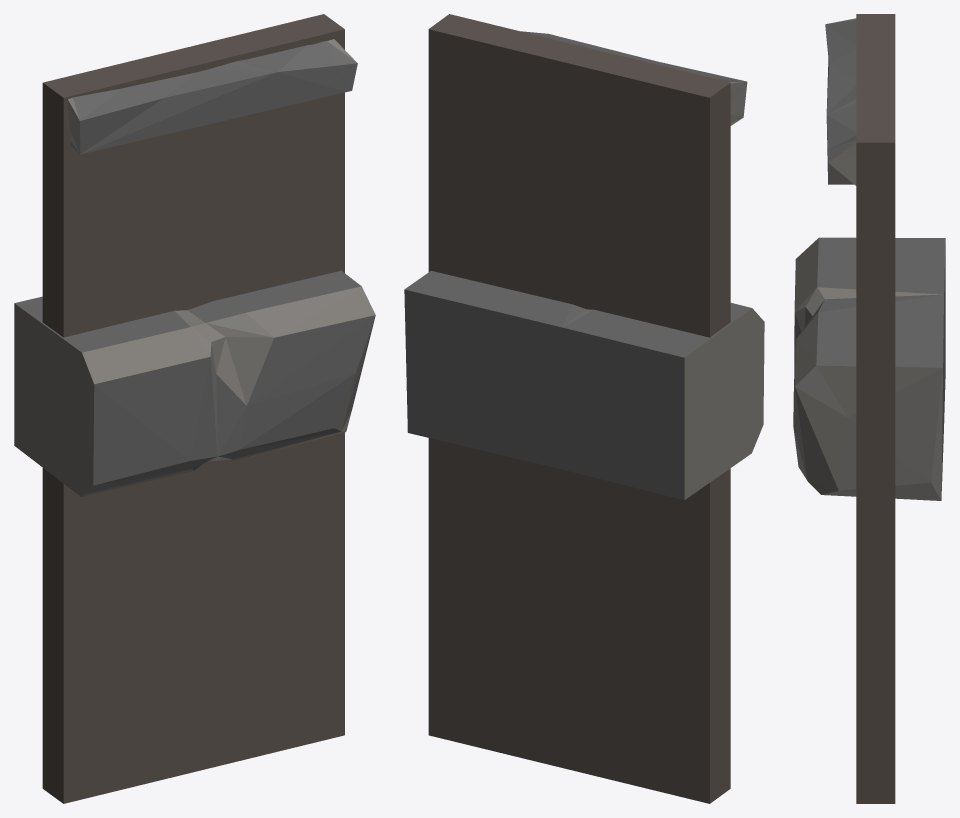
The model's file is MCastle_CropWalls_01.FBX.
3 renders of one model, left to right at view 1: azimuth 30°, elevation 25°; view 2: azimuth 150°, elevation 25°; view 3: azimuth 270°, elevation 25°, orthographic. The views are drawn at different scales.
Visible parts, largest first — view 1: MCastle_CropWalls_01_LOD0; view 2: MCastle_CropWalls_01_LOD0; view 3: MCastle_CropWalls_01_LOD0.
Boxes of the visible parts, x1=… form: MCastle_CropWalls_01_LOD0: x1=14, y1=14, x2=375, y2=803; MCastle_CropWalls_01_LOD0: x1=404, y1=14, x2=764, y2=803; MCastle_CropWalls_01_LOD0: x1=793, y1=14, x2=945, y2=803.
Size of what is drawn, in the model's own units: 2.01 by 4.8 by 1.
